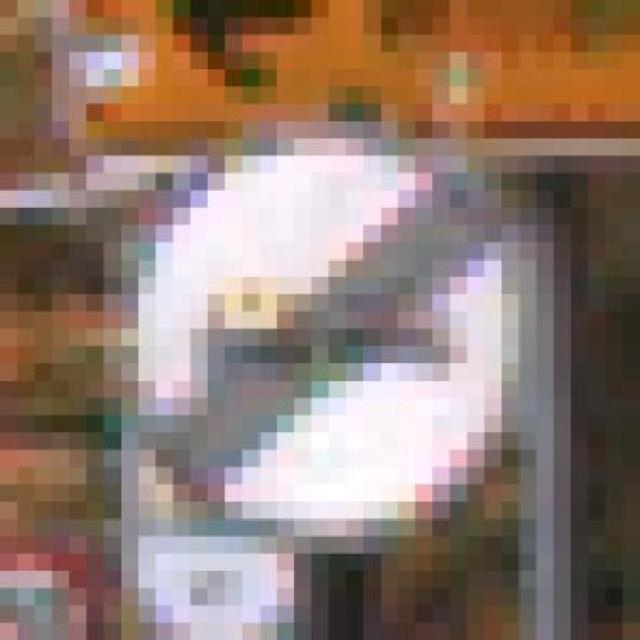No_Over_Taking: (86, 86, 571, 554)
